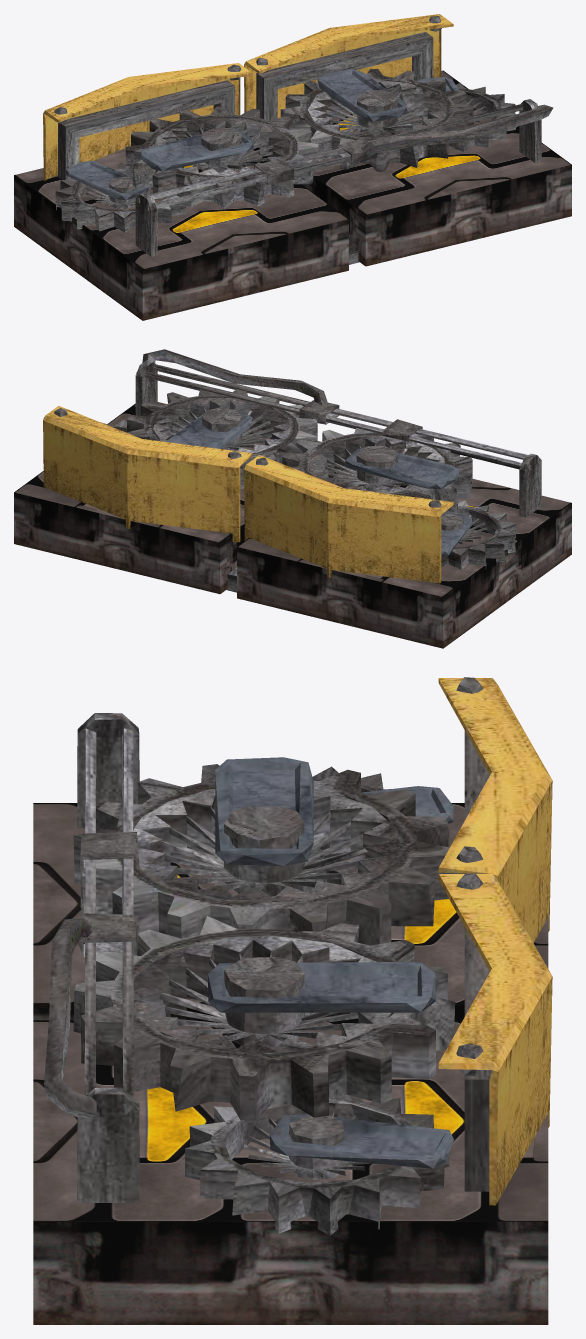
Rendered from splitter.glb.
3 views of the same model, one above another, from view 1: azimuth 30°, elevation 25°; view 2: azimuth 150°, elevation 25°; view 3: azimuth 270°, elevation 25° (orthographic). The views are drawn at different scales.
Visible parts, largest first — view 1: body, anim_spin_gear, anim_spin_gear.001, anim_spin_gear.002, anim_spin_gear.003; view 2: body, anim_spin_gear.001, anim_spin_gear, anim_spin_gear.002; view 3: body, anim_spin_gear.001, anim_spin_gear, anim_spin_gear.003, anim_spin_gear.002.
Part boxes in pixels (x1,y1,x2,y2): body: (14,14,571,320); anim_spin_gear: (125,106,318,209); anim_spin_gear.001: (280,69,473,171); anim_spin_gear.002: (55,162,185,232); anim_spin_gear.003: (393,82,515,152); body: (14,349,571,648); anim_spin_gear.001: (127,389,317,488); anim_spin_gear: (282,428,472,511); anim_spin_gear.002: (441,500,516,569); body: (33,677,552,1324); anim_spin_gear.001: (73,912,455,1120); anim_spin_gear: (73,764,453,945); anim_spin_gear.003: (185,1094,449,1235); anim_spin_gear.002: (187,766,449,898).
Bounding box in the file's own units: 1.99 × 0.5507 × 1.01.
Materials: 3 (3 with a texture image).
